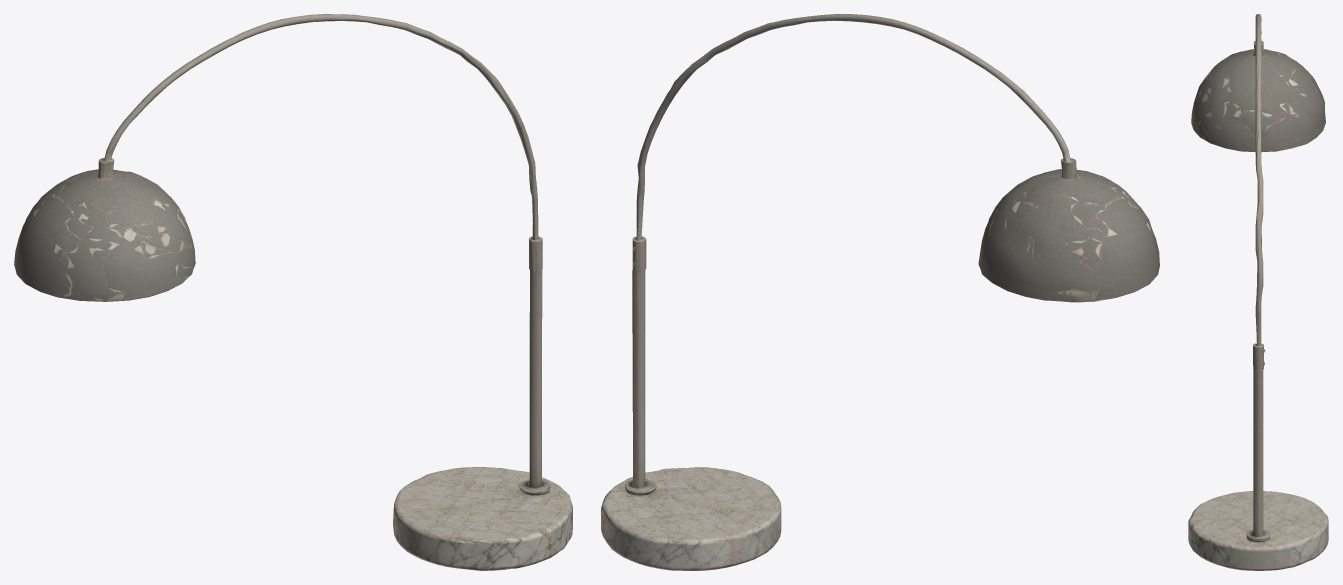
The model's file is skyways-d-ds-lamp.glb.
3 renders of one model, left to right at view 1: azimuth 30°, elevation 25°; view 2: azimuth 150°, elevation 25°; view 3: azimuth 270°, elevation 25°, orthographic. The views are drawn at different scales.
Parts seen in each view (by area): view 1: skyways-d-ds-lamp; view 2: skyways-d-ds-lamp; view 3: skyways-d-ds-lamp.
Boxes of the visible parts, x1=… form: skyways-d-ds-lamp: x1=14, y1=14, x2=572, y2=570; skyways-d-ds-lamp: x1=601, y1=14, x2=1159, y2=570; skyways-d-ds-lamp: x1=1188, y1=14, x2=1328, y2=570.
Size of the model in its own units: 2.08 by 2.1 by 0.6156.
1 material, 1 textured.
